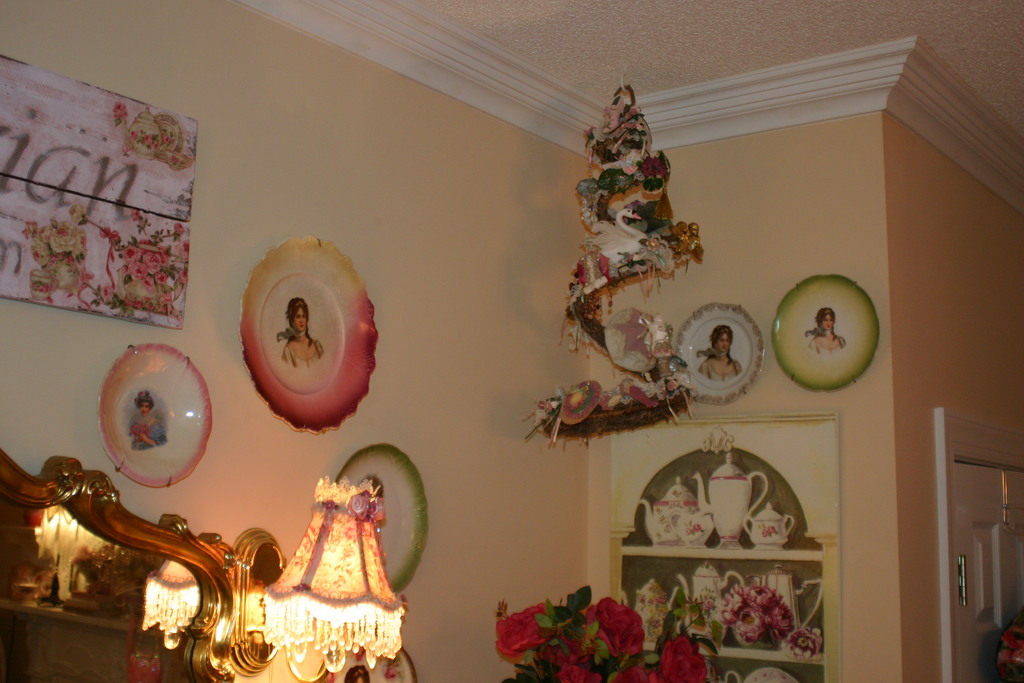plate: (234, 235, 382, 435), (98, 344, 216, 484), (770, 261, 884, 399)
